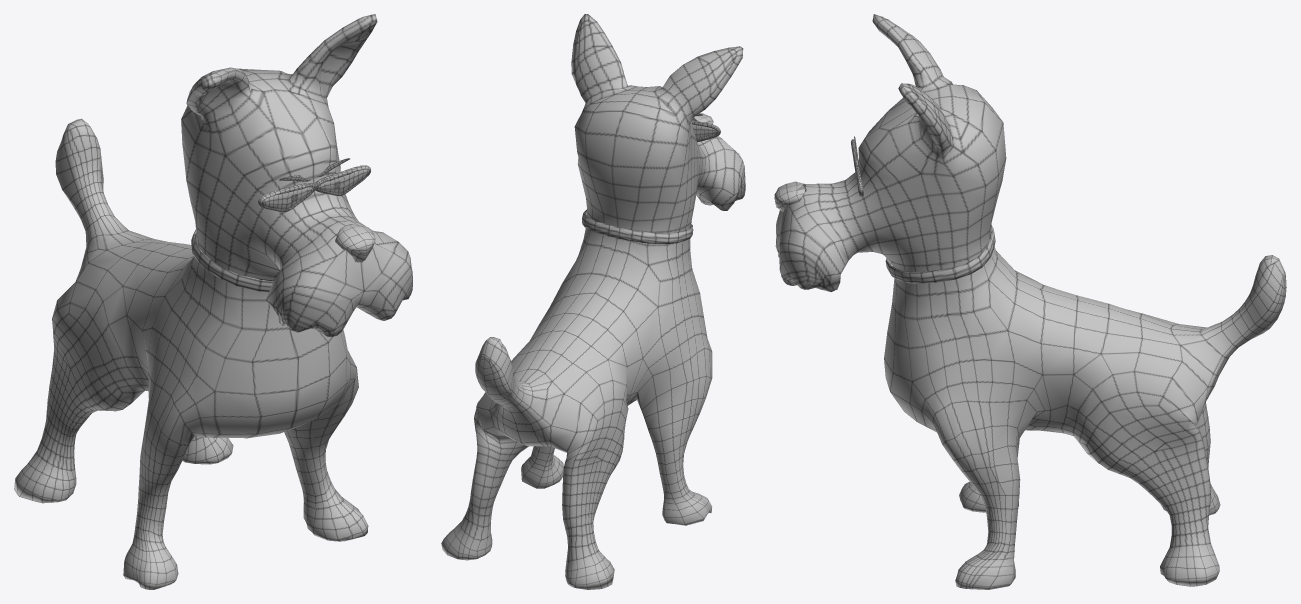
File: Rufus Wire.glb
The picture shows the model from 3 angles, left to right: view 1: azimuth 30°, elevation 25°; view 2: azimuth 150°, elevation 25°; view 3: azimuth 270°, elevation 25°; orthographic projection. The views are drawn at different scales.
Parts seen in each view (by area): view 1: Pupil_L; view 2: Pupil_L; view 3: Pupil_L.
Boxes of the visible parts, x1,y1,x2,y2 form: Pupil_L: [14, 14, 412, 589]; Pupil_L: [441, 14, 745, 589]; Pupil_L: [774, 14, 1286, 589].
Bounding box in the file's own units: 0.2687 × 0.6136 × 0.5723.
Materials: 2 (2 with a texture image).
